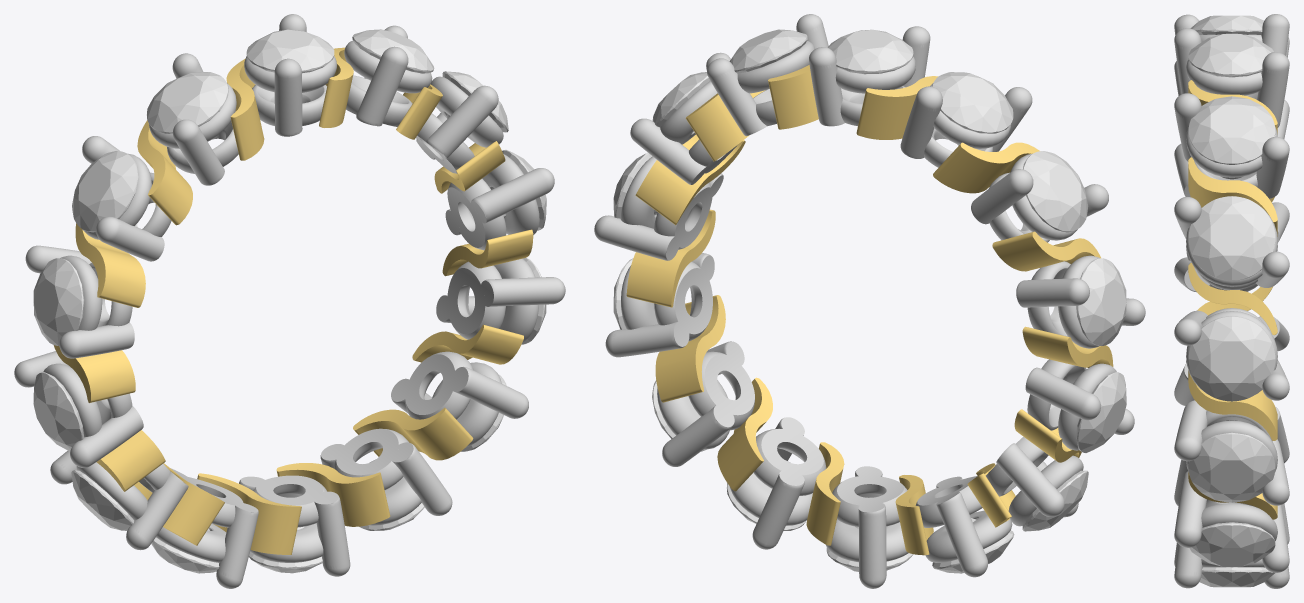
File: ForgueHersYGPTeternity_blender.glb
3 views of the same model, side by side, from view 1: azimuth 30°, elevation 25°; view 2: azimuth 150°, elevation 25°; view 3: azimuth 270°, elevation 25° (orthographic).
Parts seen in each view (by area): view 1: PT, YG, diamond.012, diamond.013, diamond.011, diamond, diamond.010, diamond.009, diamond.001, diamond.008, diamond.002, diamond.007; view 2: PT, YG, diamond.012, diamond.013, diamond.011, diamond, diamond.010, diamond.001, diamond.009, diamond.002, diamond.003, diamond.008; view 3: PT, YG, diamond.003, diamond.002, diamond.004, diamond.001, diamond.005, diamond, diamond.006, diamond.013.
Boxes of the visible parts, x1,y1,x2,y2 form: PT: (14,14,565,588); YG: (53,47,533,554); diamond.012: (72,151,138,232); diamond.013: (147,72,228,133); diamond.011: (33,258,84,345); diamond: (246,29,334,73); diamond.010: (33,372,84,451); diamond.009: (71,470,134,530); diamond.001: (352,29,434,73); diamond.008: (151,528,219,573); diamond.002: (442,71,508,132); diamond.007: (249,526,322,573); PT: (594,14,1145,588); YG: (626,65,1113,555); diamond.012: (1023,151,1088,232); diamond.013: (932,72,1013,133); diamond.011: (1076,258,1126,345); diamond: (828,29,913,74); diamond.010: (1076,372,1126,452); diamond.001: (729,29,807,73); diamond.009: (1022,470,1088,531); diamond.002: (652,72,710,127); diamond.003: (613,152,657,218); diamond.008: (932,518,1014,573); PT: (1174,14,1289,588); YG: (1188,80,1277,519); diamond.003: (1188,316,1275,401); diamond.002: (1188,196,1275,280); diamond.004: (1188,432,1275,502); diamond.001: (1188,96,1275,164); diamond.005: (1189,522,1275,567); diamond: (1188,33,1273,77); diamond.006: (1199,567,1274,587); diamond.013: (1190,15,1263,34).
Bounding box in the file's own units: 21.15 × 21.18 × 4.26.
